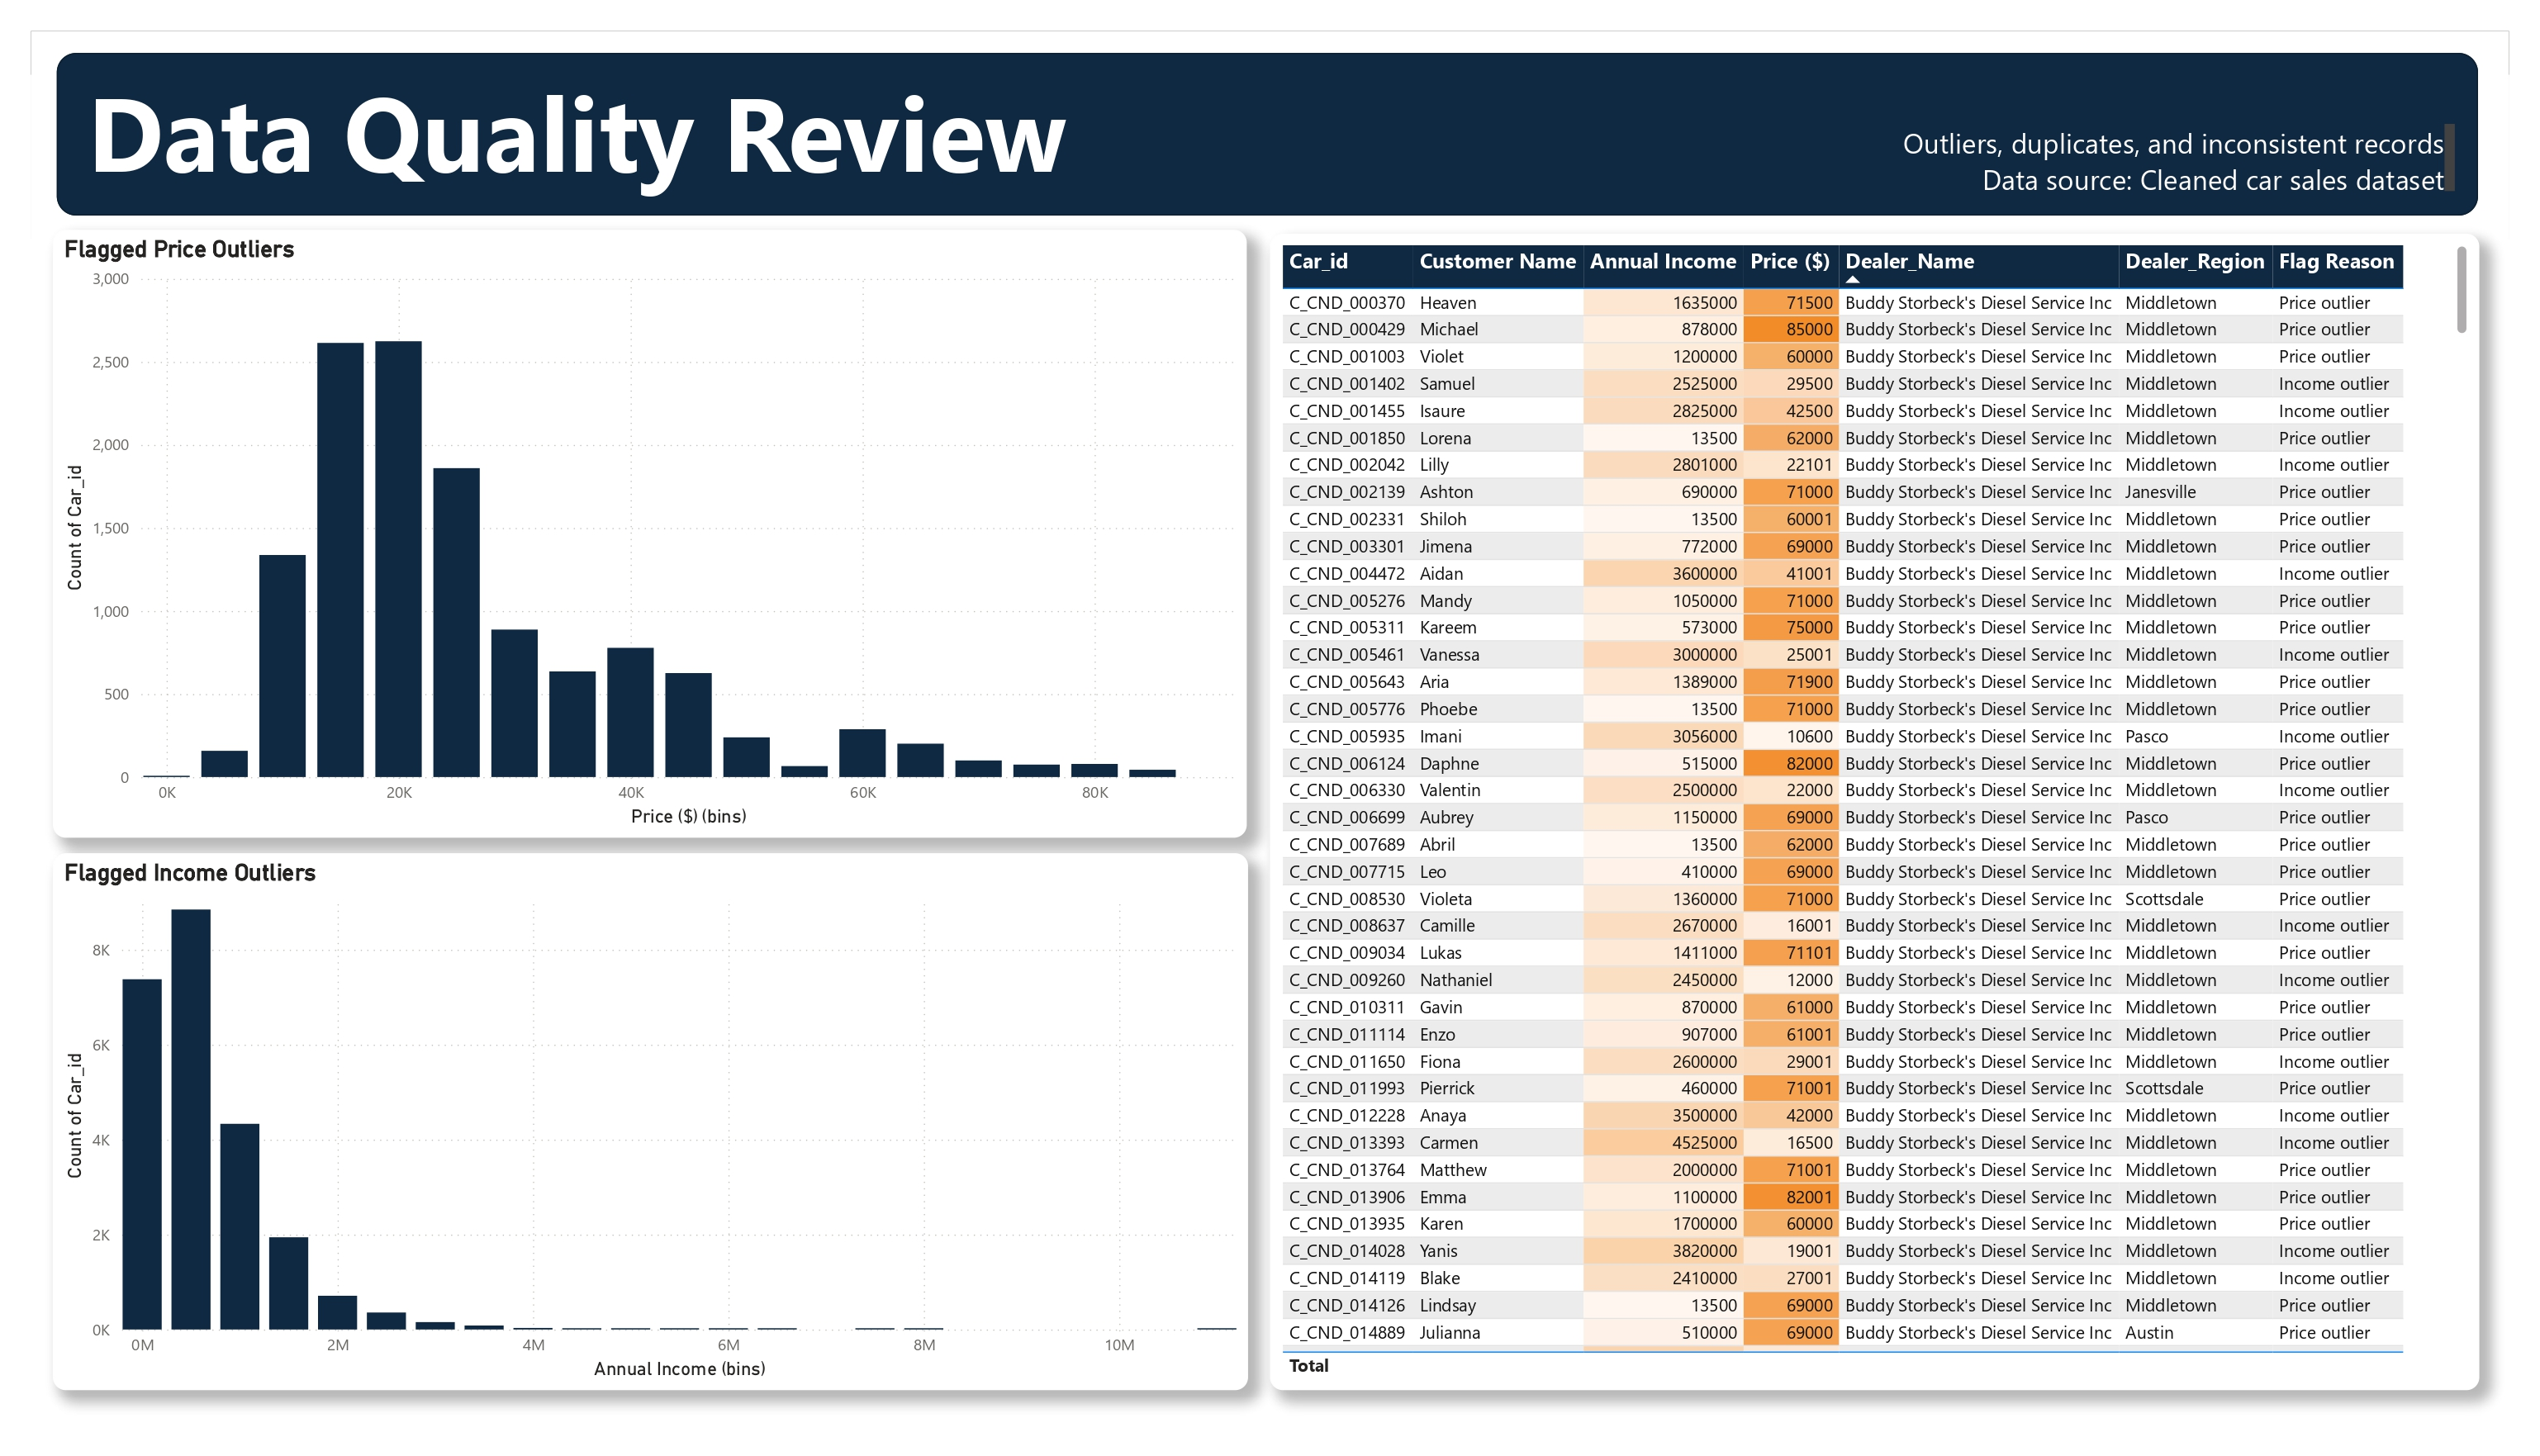

What the dashboard file says about the page in this screenshot:
{"tool":"powerbi","page":{"name":"Page 2: Data Quality Review","canvas":[1920,1080],"ordinal":1},"visuals":[{"type":"shape","box":[19.7,17.1,1876.3,126.3],"z":0},{"type":"textbox","box":[39.5,18.4,1310.5,126.3],"z":1000},{"type":"textbox","box":[1443.5,67,439.2,63.6],"z":2000},{"type":"clusteredColumnChart","title":"Flagged Price Outliers","fields":{"Category":["car_sales_clean.Price ($) (bins)"],"Y":["CountNonNull(car_sales_clean.Car_id)"]},"box":[16.7,154.2,925,470.8],"z":13000},{"type":"clusteredColumnChart","title":"Flagged Income Outliers","fields":{"Category":["car_sales_clean.Annual Income (bins)"],"Y":["CountNonNull(car_sales_clean.Car_id)"]},"box":[16.7,636.7,926.7,416.7],"z":15000},{"type":"tableEx","title":"Suspicious Records Summary","fields":{"Values":["car_sales_clean.Car_id","car_sales_clean.Customer Name","car_sales_clean.Annual Income","car_sales_clean.Price ($)","car_sales_clean.Dealer_Name","car_sales_clean.Dealer_Region","car_sales_clean.Flag Reason"]},"box":[960,156.7,936.7,896.7],"z":17000}]}

Visuals, with their boxes on the page's 1920x1080 design canvas (x1, y1, x2, y2). These are canvas units, not pixel positions in the 2540x1456 screenshot, which may show the page scaled, cropped or inside an application window:
shape: 20/17/1896/143
textbox: 40/18/1350/145
textbox: 1444/67/1883/131
"Flagged Price Outliers" clusteredColumnChart: 17/154/942/625
"Flagged Income Outliers" clusteredColumnChart: 17/637/943/1053
"Suspicious Records Summary" tableEx: 960/157/1897/1053
